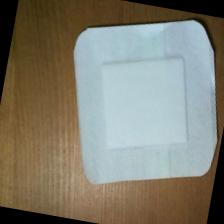Dressing: (48, 1, 224, 207)
